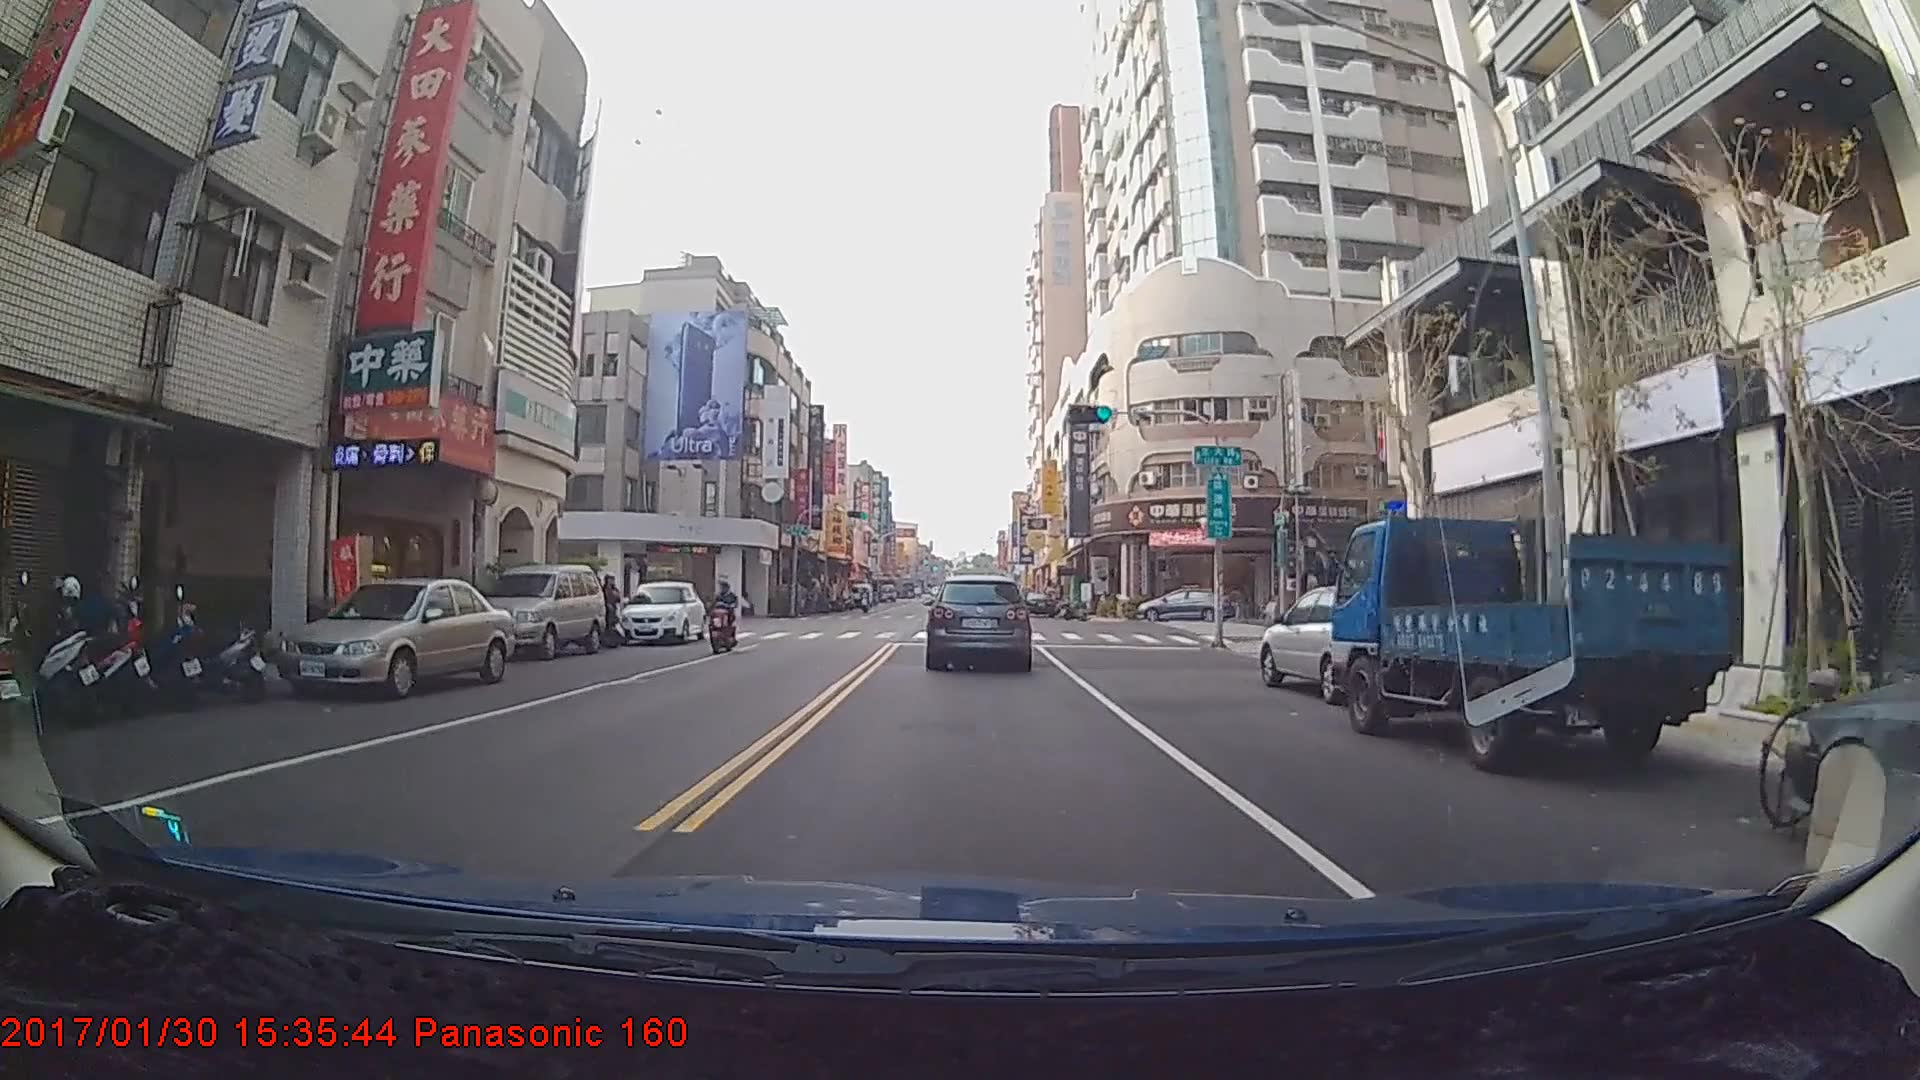rider: (706, 580, 743, 657)
vehicle: (1325, 511, 1736, 775), (269, 574, 512, 700), (1257, 581, 1419, 702), (465, 560, 607, 660), (926, 575, 1030, 670), (618, 579, 708, 645), (1133, 585, 1228, 621), (1021, 589, 1055, 615), (848, 579, 872, 606)
